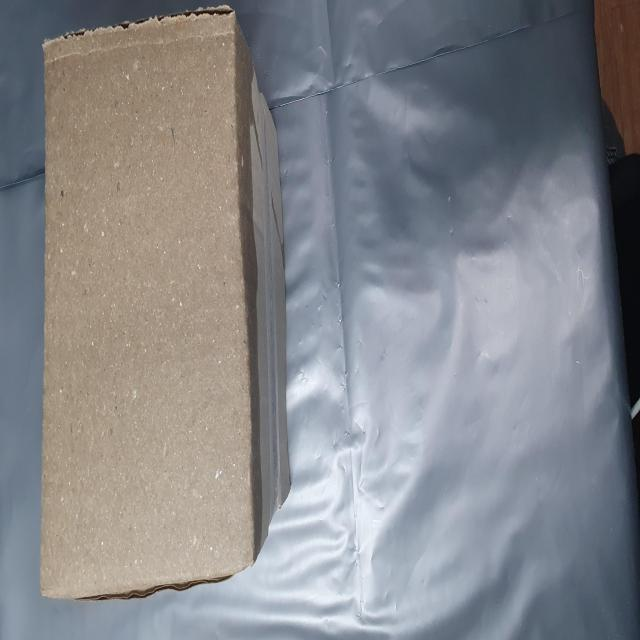wet: (21, 73, 349, 460)
